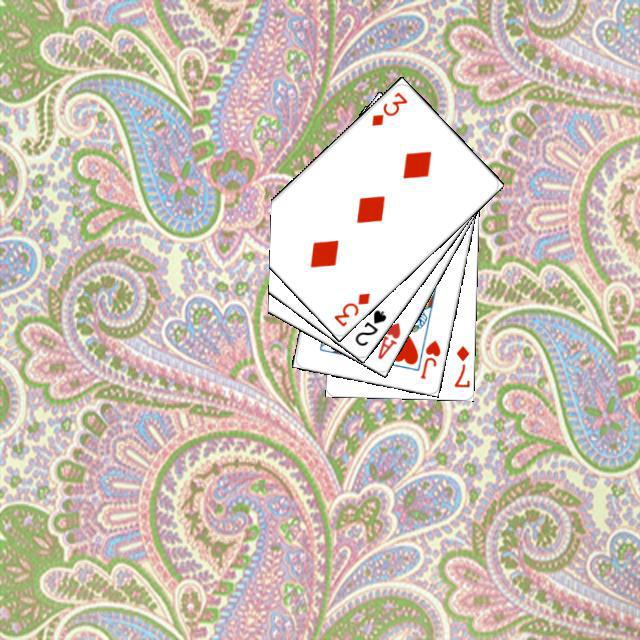2s: (350, 305, 388, 348)
3d: (366, 87, 409, 128), (329, 288, 372, 328)
7d: (449, 341, 471, 389)
Ah: (373, 317, 402, 361)
Jh: (415, 335, 442, 381)
